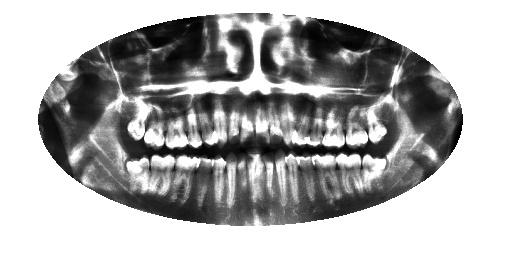Cavity: (235, 107, 256, 150), (252, 106, 271, 151), (261, 151, 279, 194), (267, 102, 284, 147), (235, 152, 252, 195), (273, 151, 289, 193)
